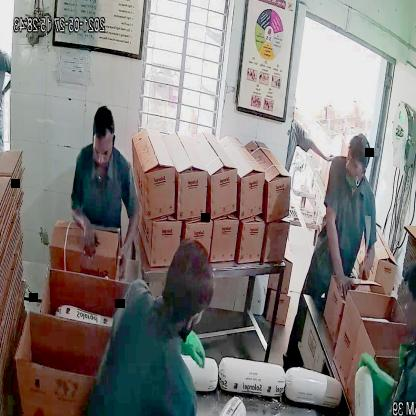no_goggles: (89, 135, 119, 163), (341, 150, 370, 174)
